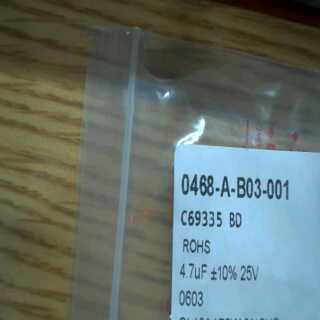4.7uF: (175, 260, 209, 284)
